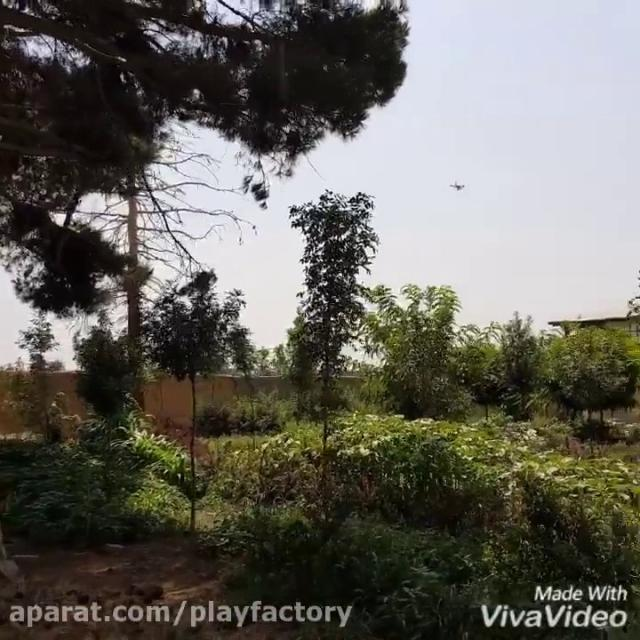drone: (447, 176, 469, 193)
